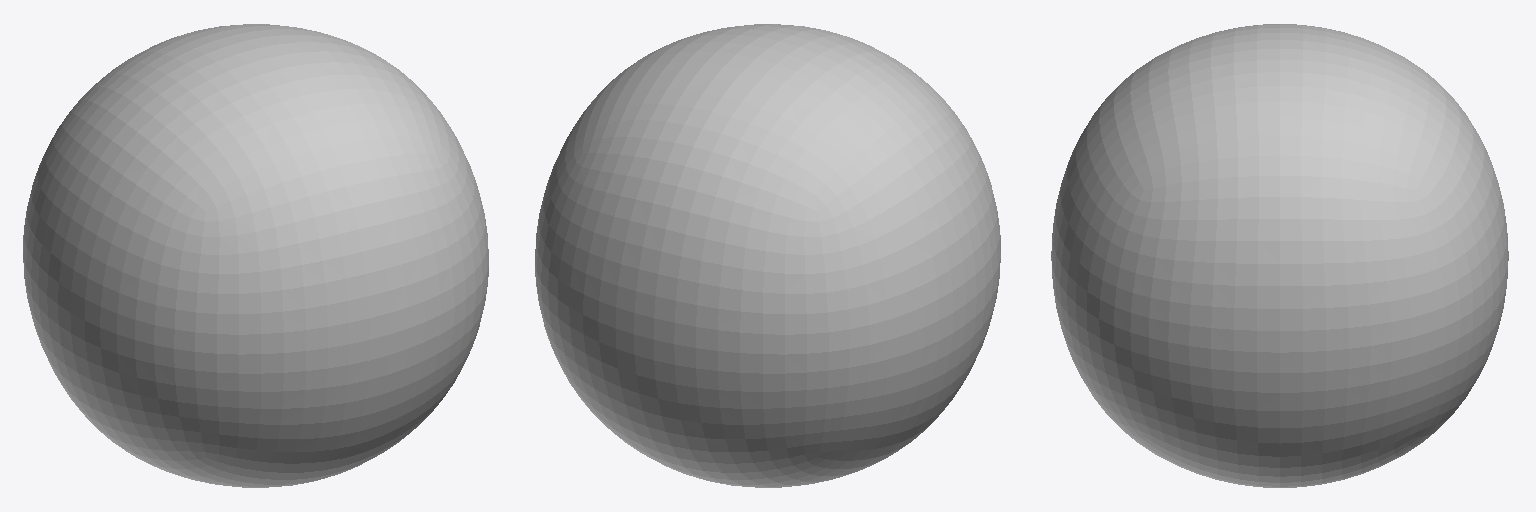
File: nonormaltsphere.obj
The picture shows the model from 3 angles: view 1: azimuth 30°, elevation 25°; view 2: azimuth 150°, elevation 25°; view 3: azimuth 270°, elevation 25°; orthographic projection.
Visible parts, largest first — view 1: Cube_Cube.001; view 2: Cube_Cube.001; view 3: Cube_Cube.001.
Part boxes in pixels (x1,y1,x2,y2): Cube_Cube.001: (23,24,488,487); Cube_Cube.001: (535,24,1000,487); Cube_Cube.001: (1051,24,1508,487).
Size of the model in its own units: 1.68 by 1.68 by 1.68.